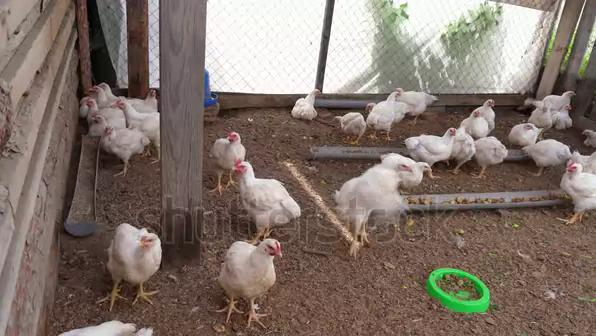Pollos: (233, 158, 301, 222), (219, 237, 283, 299), (105, 220, 165, 282), (103, 124, 152, 162), (367, 88, 402, 141), (377, 156, 428, 190), (560, 161, 595, 210), (405, 126, 459, 157), (110, 94, 161, 122), (523, 142, 573, 169), (330, 110, 366, 146), (210, 129, 246, 160), (290, 89, 325, 119), (473, 137, 507, 165), (458, 110, 491, 136), (509, 121, 538, 143), (542, 89, 577, 106)
